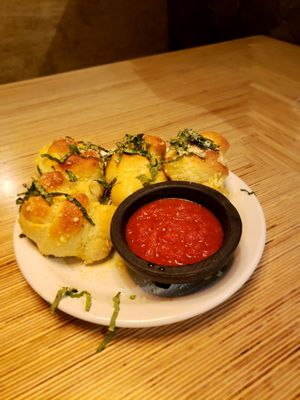sushi: (109, 182, 241, 295)
